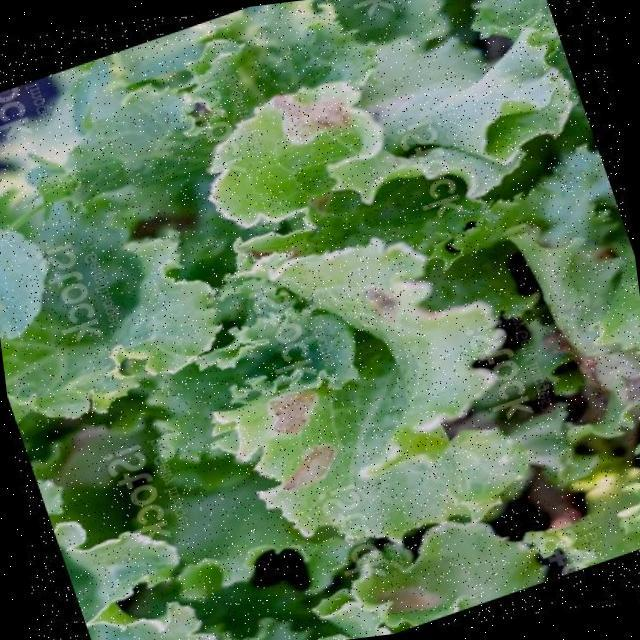Bacterial: (201, 216, 516, 575), (184, 60, 407, 236)
